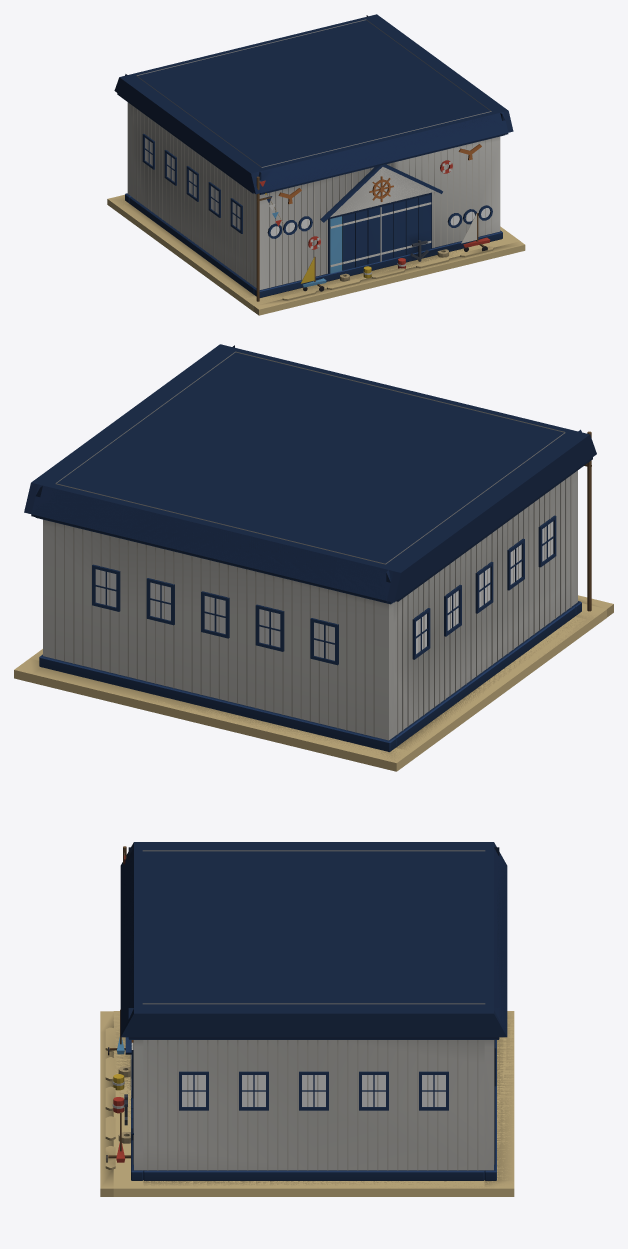
The model's file is DuneWhaleFloor.fbx.
3 views of the same model, one above another, from view 1: azimuth 30°, elevation 25°; view 2: azimuth 150°, elevation 25°; view 3: azimuth 270°, elevation 25° (orthographic). The views are drawn at different scales.
Parts seen in each view (by area): view 1: DW_S_All, DW_F_Rings, DW_F_Smooth, DW_F_Quiet, DW_F_Glass; view 2: DW_S_All, DW_F_Rings, DW_F_Smooth, DW_F_Quiet, DW_F_Glass; view 3: DW_S_All, DW_F_Rings, DW_F_Smooth, DW_F_Quiet, DW_F_Glass.
Boxes of the visible parts, bbox=[...] form: DW_S_All: bbox=[107, 14, 520, 311]; DW_F_Rings: bbox=[117, 15, 508, 290]; DW_F_Smooth: bbox=[117, 93, 525, 315]; DW_F_Quiet: bbox=[108, 194, 524, 309]; DW_F_Glass: bbox=[145, 138, 490, 236]; DW_S_All: bbox=[14, 344, 606, 771]; DW_F_Rings: bbox=[31, 345, 592, 751]; DW_F_Smooth: bbox=[31, 431, 613, 751]; DW_F_Quiet: bbox=[14, 595, 613, 762]; DW_F_Glass: bbox=[95, 521, 553, 660]; DW_S_All: bbox=[113, 842, 514, 1196]; DW_F_Rings: bbox=[120, 846, 507, 1180]; DW_F_Smooth: bbox=[100, 846, 499, 1196]; DW_F_Quiet: bbox=[100, 1011, 513, 1188]; DW_F_Glass: bbox=[182, 1075, 445, 1106].
Size of the model in its own units: 60 by 20 by 60.
